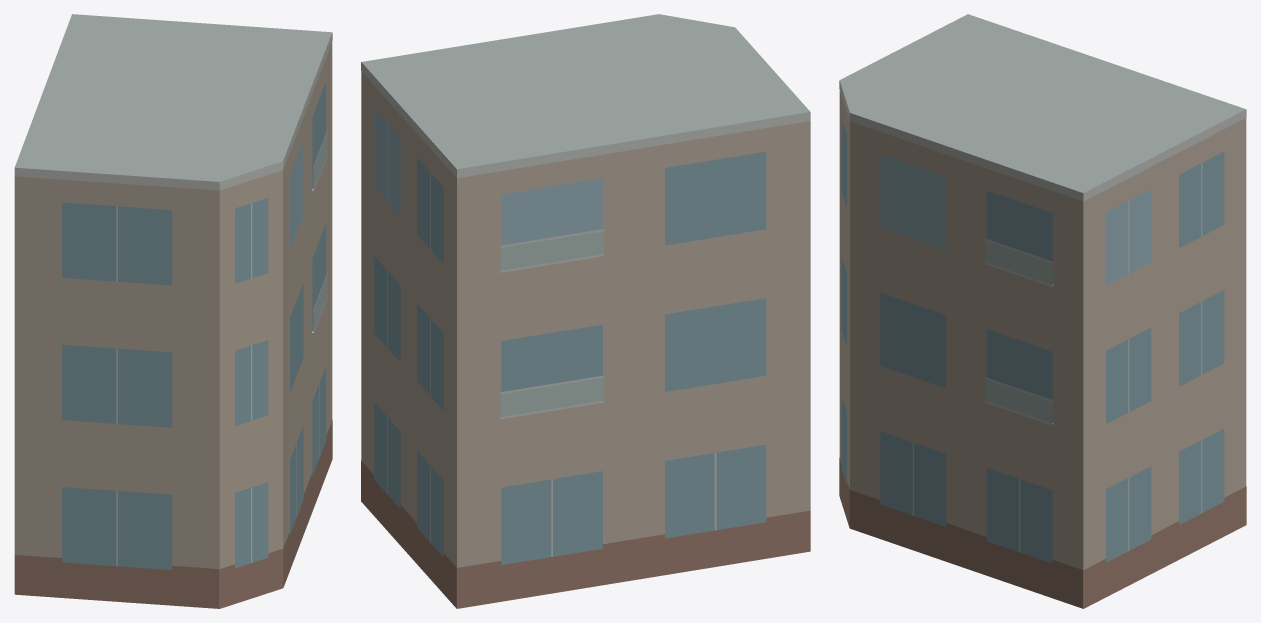
Rendered from survey-upis-32807106.glb.
The picture shows the model from 3 angles, left to right: view 1: azimuth 30°, elevation 25°; view 2: azimuth 150°, elevation 25°; view 3: azimuth 270°, elevation 25°; orthographic projection. The views are drawn at different scales.
Visible parts, largest first — view 1: survey-upis-32807106.tmp; view 2: survey-upis-32807106.tmp; view 3: survey-upis-32807106.tmp.
Part boxes in pixels (x1,y1,x2,y2): survey-upis-32807106.tmp: (14,14,332,608); survey-upis-32807106.tmp: (361,14,810,608); survey-upis-32807106.tmp: (839,14,1246,608).
Size of the model in its own units: 11.1 by 12 by 10.66.
